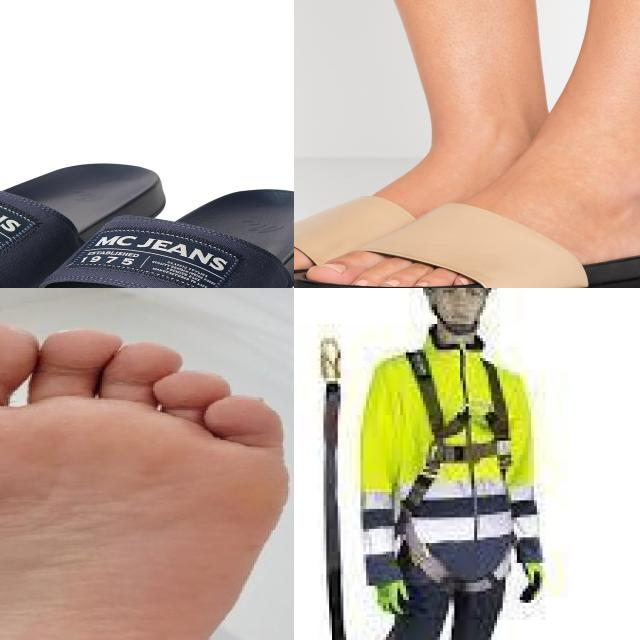Barefoots: (0, 313, 294, 640)
Harness: (399, 350, 515, 594)
Sandals: (294, 147, 640, 288), (0, 133, 294, 288)
